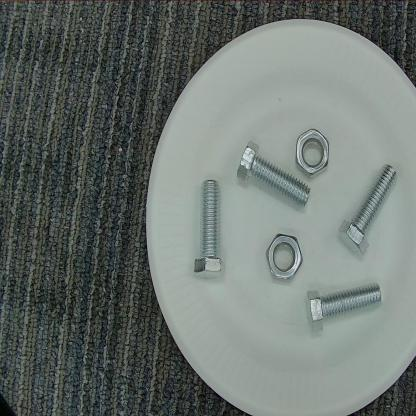FOD: (335, 160, 401, 258), (235, 139, 318, 215), (300, 274, 396, 338), (188, 173, 232, 286), (294, 122, 335, 183), (261, 228, 302, 287)
